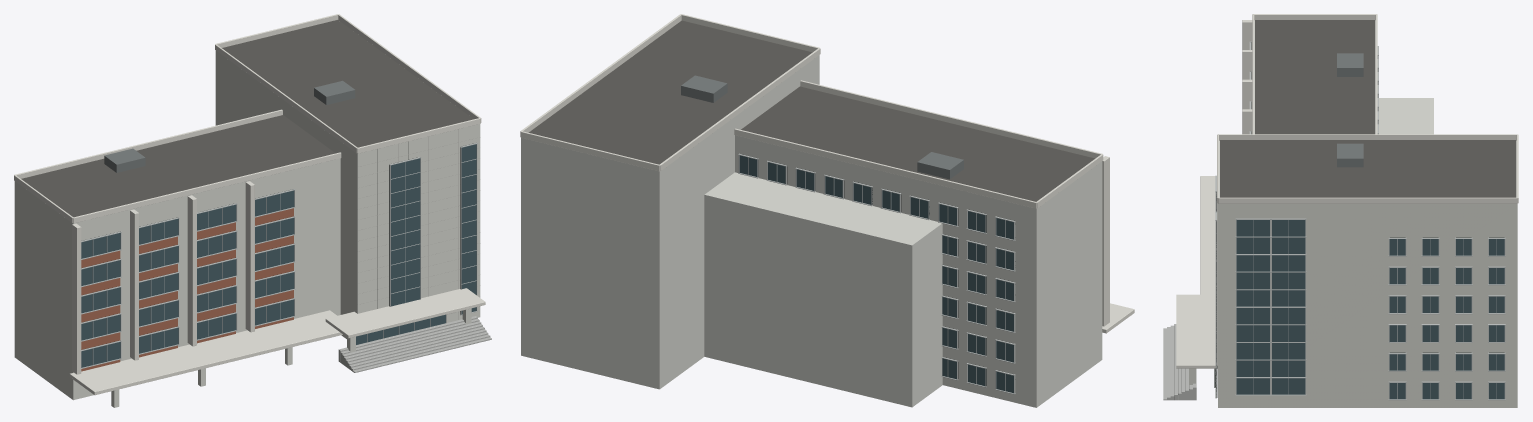
3 renders of one model, left to right at view 1: azimuth 30°, elevation 25°; view 2: azimuth 150°, elevation 25°; view 3: azimuth 270°, elevation 25°, orthographic. The views are drawn at different scales.
Parts seen in each view (by area): view 1: estimated-flat-roof__roof, red-panel-main-wing__clad, bright-perpendicular-mass__clad, red-wing-recess-windows__glass, estimated-flat-roof__trim, red-wing-lower-open-terrace-slab__trim, red-window-spandrels__red-spandrel, red-wing-white-vertical-piers__trim, red-wing-recess-windows__frame, tall-central-vertical-glazing__glass, estimated-entry-slope-stair__concrete, deep-entry-canopy__trim (+7 smaller); view 2: estimated-rear-connection__clad, bright-perpendicular-mass__clad, estimated-flat-roof__roof, red-panel-main-wing__clad, estimated-flat-roof__trim, estimated-rear-window-grid__glass, estimated-rear-window-grid__frame, estimated-roof-plant__metal, red-wing-white-vertical-piers__trim, estimated-rear-window-grid__dark; view 3: bright-perpendicular-mass__clad, estimated-flat-roof__roof, side-curtain-glass__glass, estimated-bright-mass-side-windows__glass, estimated-flat-roof__trim, estimated-bright-mass-side-windows__frame, deep-entry-canopy__trim, side-curtain-glass__frame, estimated-rear-connection__clad, red-wing-lower-open-terrace-slab__trim, estimated-entry-slope-stair__concrete, estimated-roof-plant__metal (+3 smaller).
Part boxes in pixels (x1,y1,x2,y2): estimated-flat-roof__roof: (21, 20, 473, 217); red-panel-main-wing__clad: (14, 158, 340, 400); bright-perpendicular-mass__clad: (215, 50, 480, 338); red-wing-recess-windows__glass: (81, 190, 294, 367); estimated-flat-roof__trim: (14, 14, 481, 223); red-wing-lower-open-terrace-slab__trim: (69, 310, 342, 395); red-window-spandrels__red-spandrel: (81, 208, 293, 371); red-wing-white-vertical-piers__trim: (72, 181, 254, 374); red-wing-recess-windows__frame: (81, 189, 295, 368); tall-central-vertical-glazing__glass: (391, 158, 420, 306); estimated-entry-slope-stair__concrete: (338, 316, 491, 372); deep-entry-canopy__trim: (325, 288, 485, 338); estimated-rear-connection__clad: (704, 172, 942, 407); bright-perpendicular-mass__clad: (521, 55, 819, 389); estimated-flat-roof__roof: (528, 20, 1094, 201); red-panel-main-wing__clad: (735, 135, 1102, 407); estimated-flat-roof__trim: (520, 14, 1103, 208); estimated-rear-window-grid__glass: (739, 155, 1013, 393); estimated-rear-window-grid__frame: (738, 153, 1015, 394); estimated-roof-plant__metal: (681, 75, 963, 179); red-wing-white-vertical-piers__trim: (1102, 156, 1109, 326); estimated-rear-window-grid__dark: (742, 154, 1015, 386); bright-perpendicular-mass__clad: (1218, 140, 1517, 407); estimated-flat-roof__roof: (1220, 20, 1515, 197); side-curtain-glass__glass: (1236, 220, 1305, 394); estimated-bright-mass-side-windows__glass: (1389, 239, 1504, 399); estimated-flat-roof__trim: (1217, 14, 1518, 203); estimated-bright-mass-side-windows__frame: (1388, 237, 1505, 400); deep-entry-canopy__trim: (1176, 294, 1217, 368); side-curtain-glass__frame: (1235, 218, 1306, 395); estimated-rear-connection__clad: (1379, 98, 1433, 134); red-wing-lower-open-terrace-slab__trim: (1200, 176, 1217, 294); estimated-entry-slope-stair__concrete: (1163, 324, 1196, 400); estimated-roof-plant__metal: (1337, 53, 1363, 167).
Bounding box in the file's own units: 54.77 × 26.8 × 40.34.
